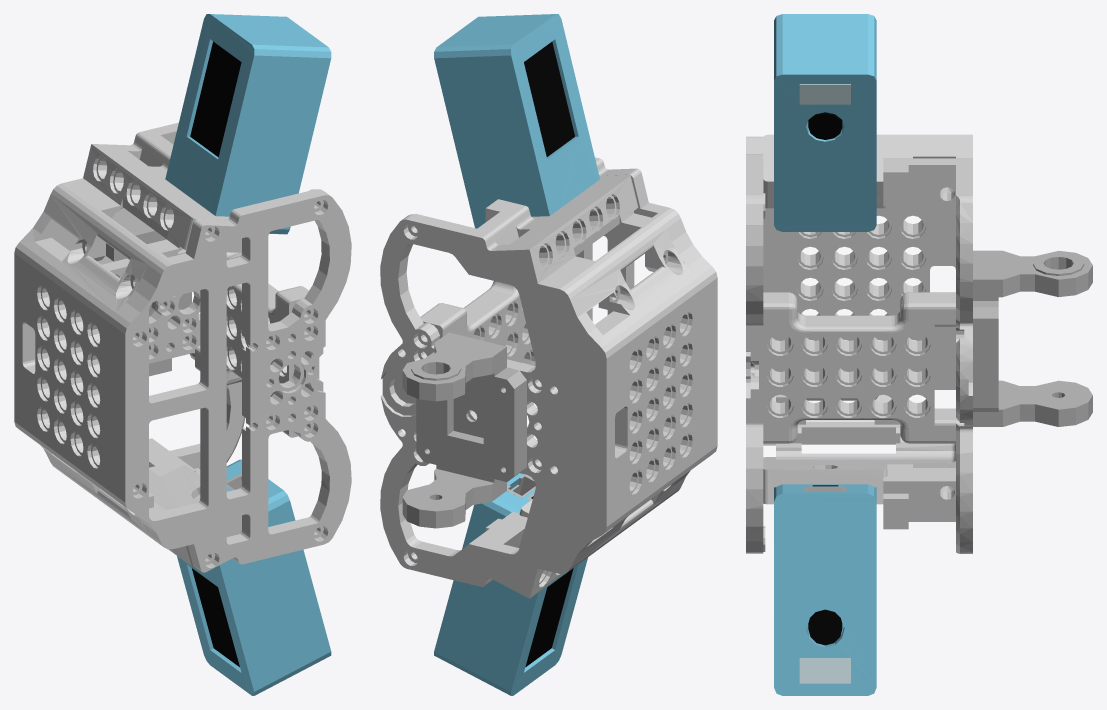
The model's file is head-neck-p_mesh.glb.
The picture shows the model from 3 angles, left to right: view 1: azimuth 30°, elevation 25°; view 2: azimuth 150°, elevation 25°; view 3: azimuth 270°, elevation 25°; orthographic projection. The views are drawn at different scales.
Visible parts, largest first — view 1: base2_M1KShape4, base2_M1KShape3, base2_M1KShape6, base2_M1KShape13, base2_M1KShape7, base2_M1KShape5, base2_M1KShape14, base2_M1KShape2; view 2: base2_M1KShape3, base2_M1KShape6, base2_M1KShape13, base2_M1KShape0, base2_M1KShape4, base2_M1KShape5, base2_M1KShape2, base2_M1KShape1, base2_M1KShape7, base2_M1KShape14; view 3: base2_M1KShape3, base2_M1KShape5, base2_M1KShape6, base2_M1KShape13, base2_M1KShape4, base2_M1KShape2, base2_M1KShape1, base2_M1KShape0, base2_M1KShape16, base2_M1KShape9, base2_M1KShape15, base2_M1KShape8.
Boxes of the visible parts, x1,y1,x2,y2 form: base2_M1KShape4: (110,189,351,572); base2_M1KShape3: (14,122,245,566); base2_M1KShape6: (165,14,331,234); base2_M1KShape13: (177,459,331,695); base2_M1KShape7: (190,41,241,157); base2_M1KShape5: (195,252,311,437); base2_M1KShape14: (192,568,239,667); base2_M1KShape2: (106,207,166,261); base2_M1KShape3: (380,174,702,598); base2_M1KShape6: (434,14,599,228); base2_M1KShape13: (434,473,587,695); base2_M1KShape0: (416,352,526,481); base2_M1KShape4: (576,157,717,501); base2_M1KShape5: (420,281,535,365); base2_M1KShape2: (402,332,506,401); base2_M1KShape1: (402,465,506,528); base2_M1KShape7: (524,41,574,156); base2_M1KShape14: (525,568,573,667); base2_M1KShape3: (763,134,972,553); base2_M1KShape5: (763,292,955,443); base2_M1KShape6: (774,14,876,231); base2_M1KShape13: (774,484,876,695); base2_M1KShape4: (746,136,775,553); base2_M1KShape2: (973,250,1092,300); base2_M1KShape1: (973,380,1092,426); base2_M1KShape0: (973,301,998,411); base2_M1KShape16: (799,658,850,683); base2_M1KShape9: (799,84,850,104); base2_M1KShape15: (808,609,842,645); base2_M1KShape8: (808,112,842,139).
Size of the model in its own units: 0.0625 by 0.1716 by 0.081.
